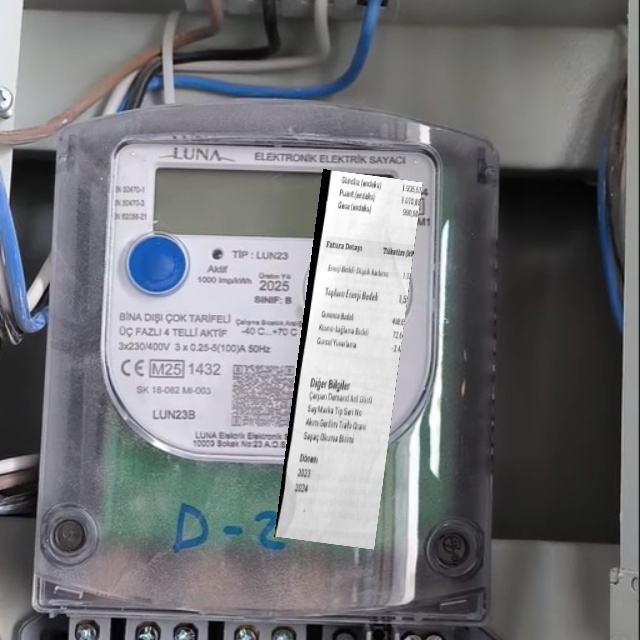electricity-bill: (273, 168, 423, 549)
